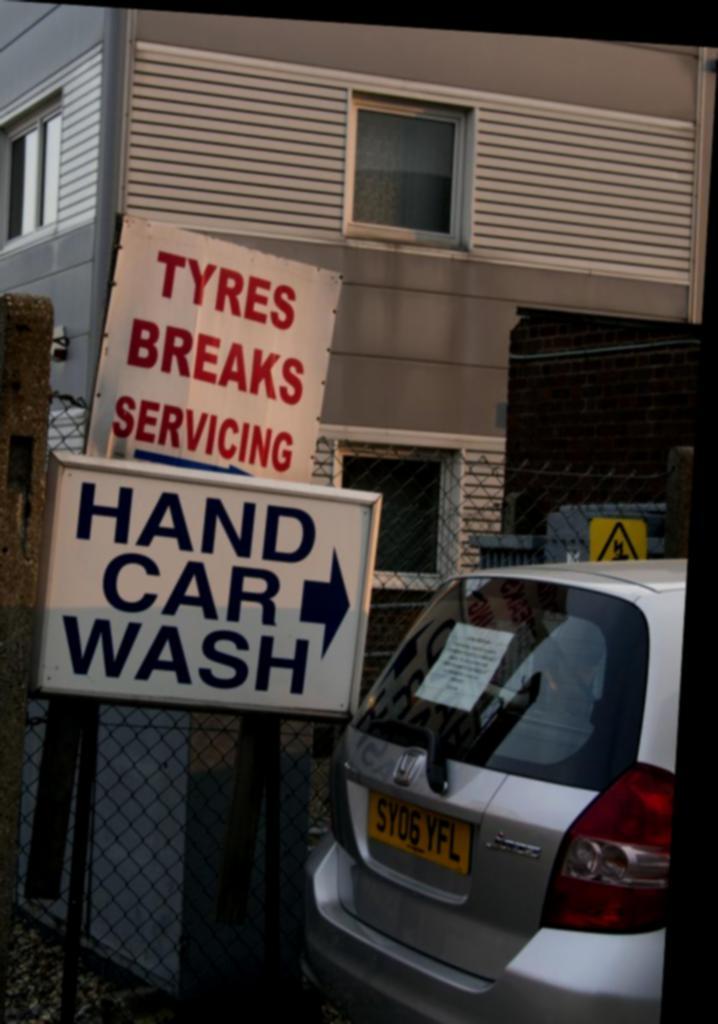License_Plate: (365, 795, 475, 875)
